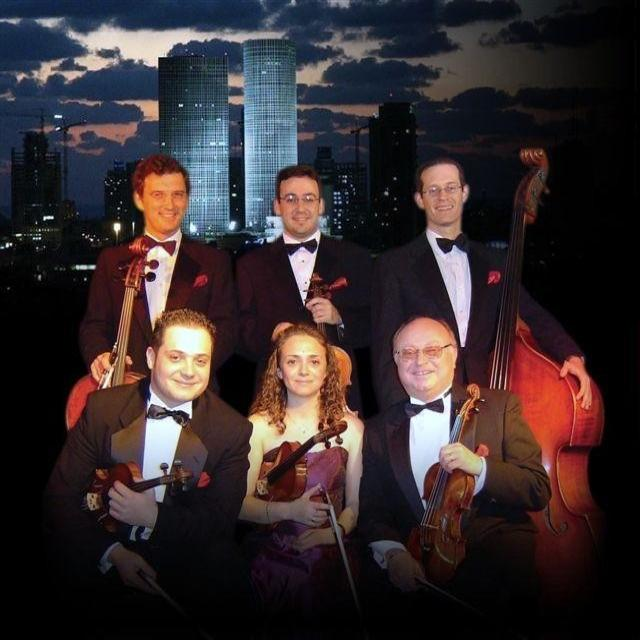cello: (66, 237, 162, 436)
violin: (400, 383, 502, 587), (246, 420, 352, 510), (79, 454, 198, 520)
